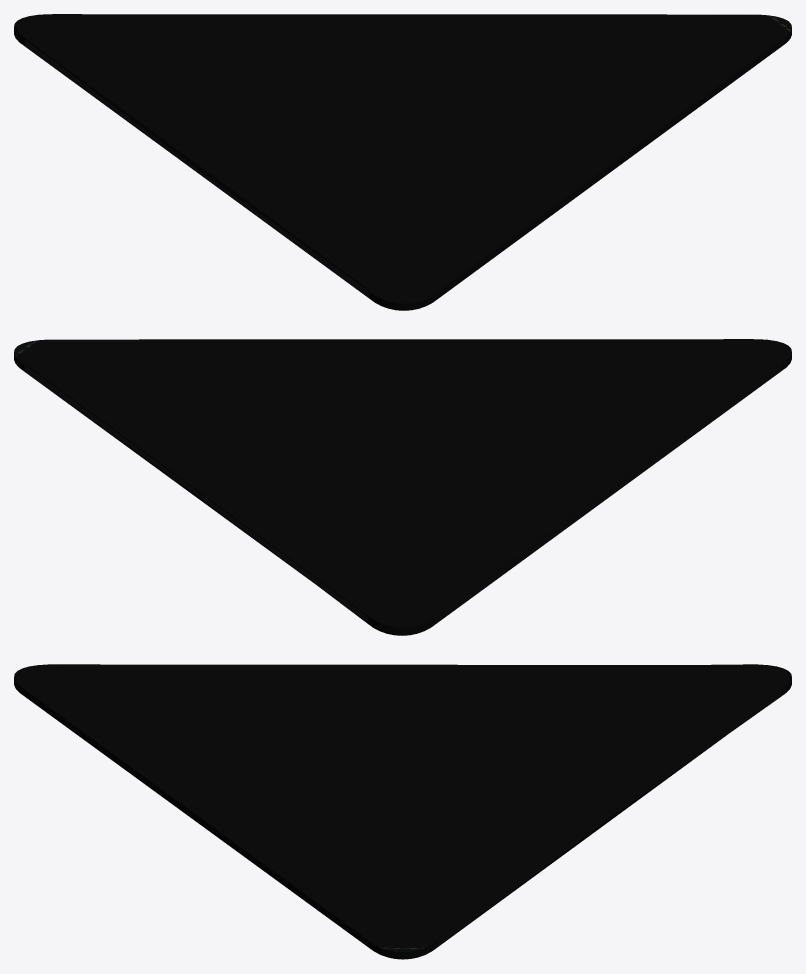
3 views of the same model, one above another, from view 1: azimuth 30°, elevation 25°; view 2: azimuth 150°, elevation 25°; view 3: azimuth 270°, elevation 25° (orthographic).
Visible parts, largest first — view 1: Cube.003; view 2: Cube.003; view 3: Cube.003.
Part boxes in pixels (<box>): Cube.003: <box>14,14,791,310</box>; Cube.003: <box>14,339,791,635</box>; Cube.003: <box>14,664,791,959</box>.
Bounding box in the file's own units: 0.0743 × 0.000864 × 0.0849.
Materials: 1 (1 with a texture image).
